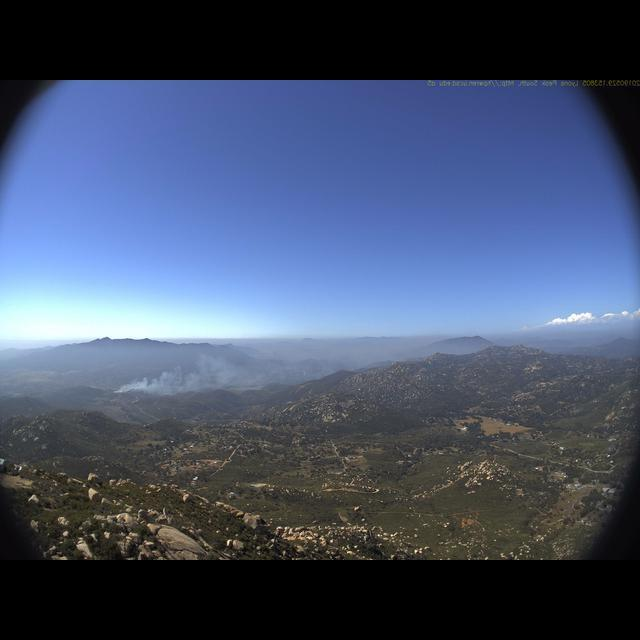Smoke: (119, 351, 274, 396)
